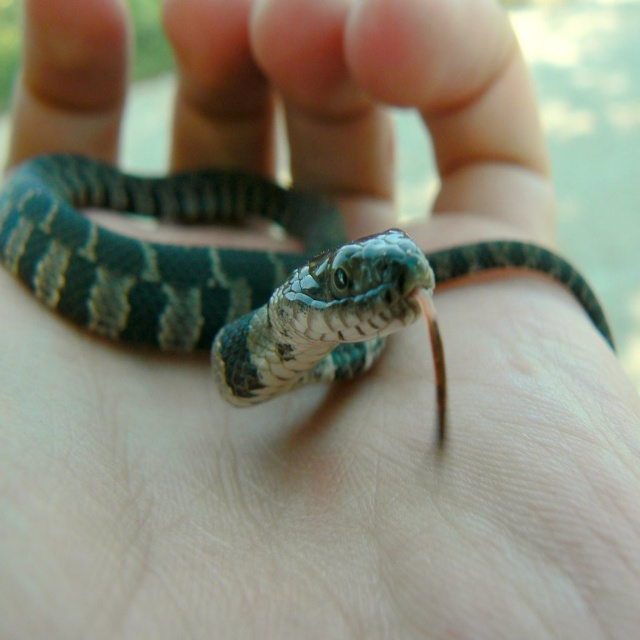Snake: (0, 144, 615, 449)
